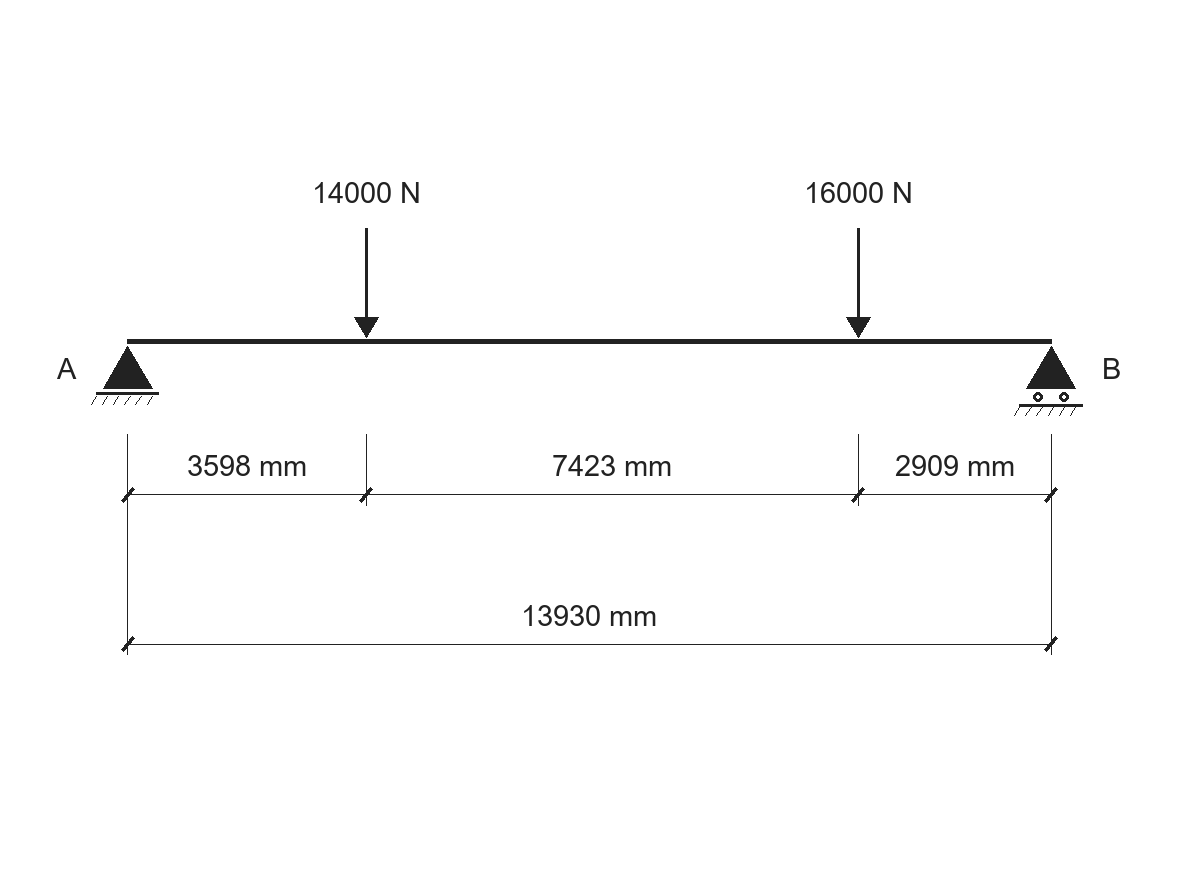pin_support: (91, 346, 159, 405)
point_load: (354, 228, 379, 338), (846, 228, 871, 338)
roller_support: (1014, 346, 1083, 416)
